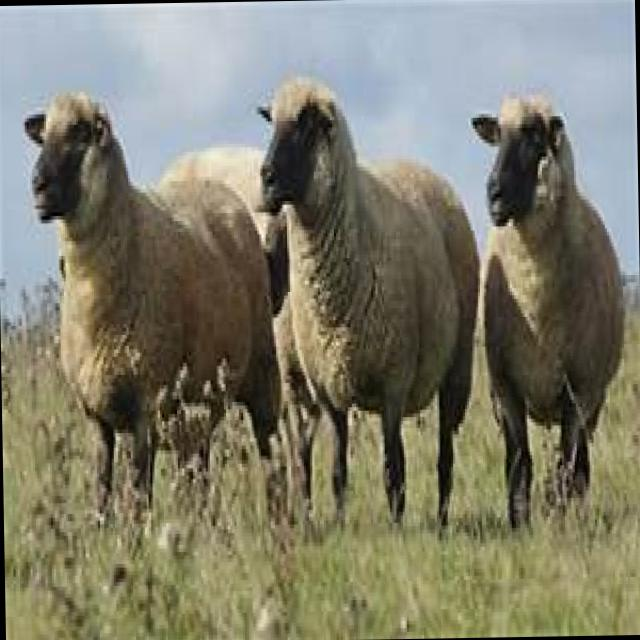sheep: (23, 84, 286, 536), (255, 70, 486, 532), (472, 86, 631, 532)
